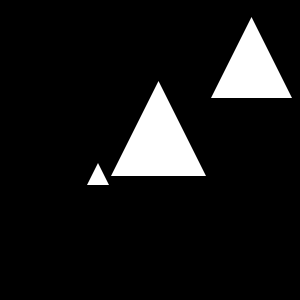triangle: (111, 81, 206, 176), (211, 17, 292, 98), (87, 163, 109, 185)
